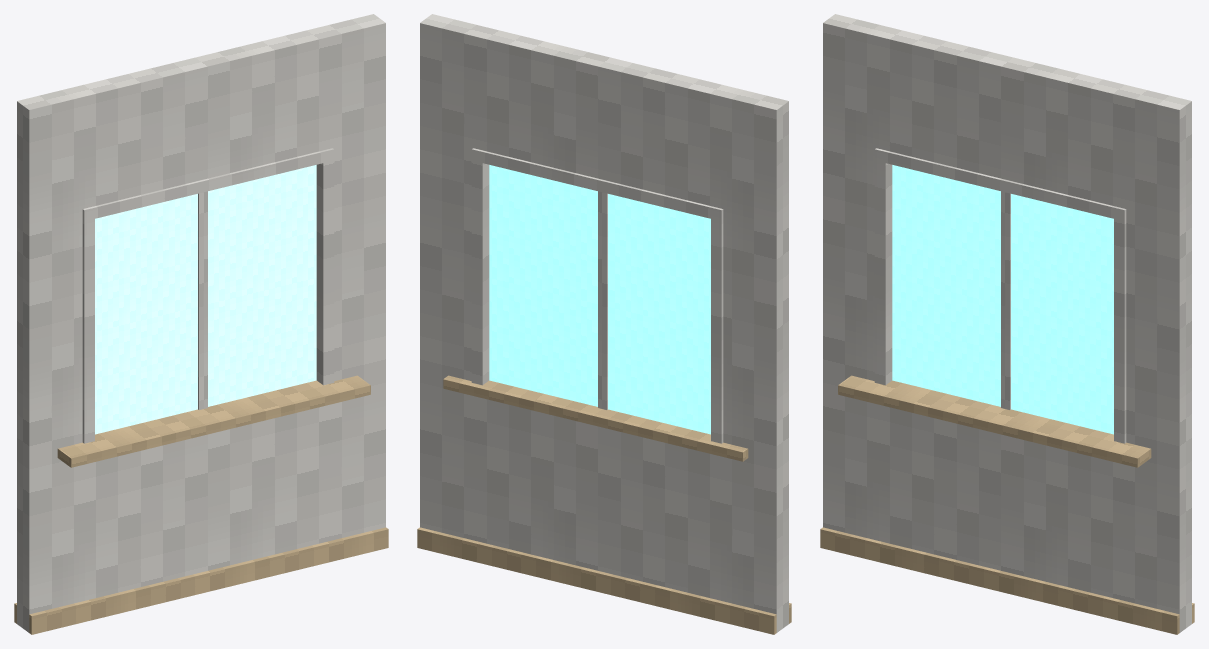
The model's file is pixel-modern-apartments-wall-bay-window-81b0cc3f__29793.glb.
The picture shows the model from 3 angles, left to right: view 1: azimuth 30°, elevation 25°; view 2: azimuth 150°, elevation 25°; view 3: azimuth 330°, elevation 25°; orthographic projection.
Parts seen in each view (by area): view 1: wall-bay-window; view 2: wall-bay-window; view 3: wall-bay-window.
Boxes of the visible parts, x1,y1,x2,y2 form: wall-bay-window: (14,14,388,634); wall-bay-window: (417,14,791,634); wall-bay-window: (820,14,1194,634).
Bounding box in the file's own units: 2 × 2.8 × 0.3001.
3 materials, 3 textured.
